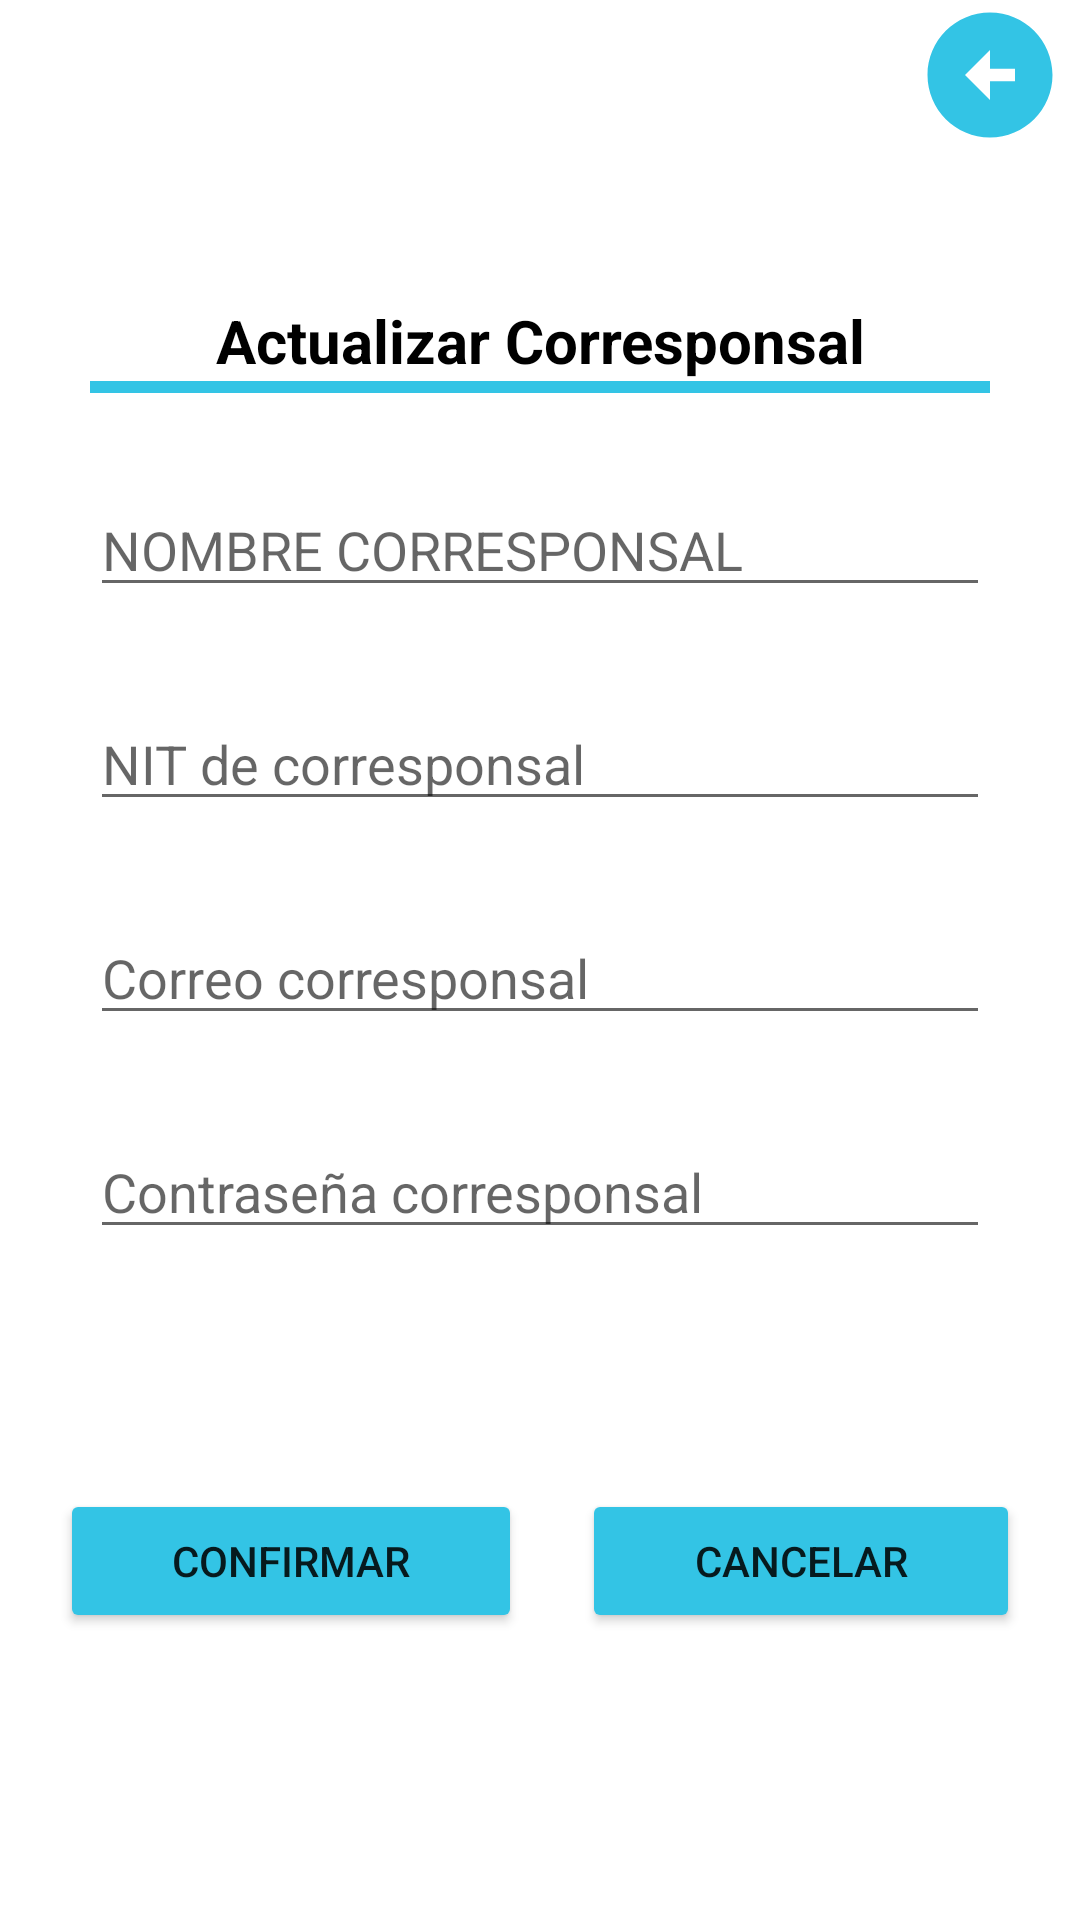

Point at icon controls on the screen. Image size 1080×1920, points as point (x, y).
arrow circle left: point (990, 75)
